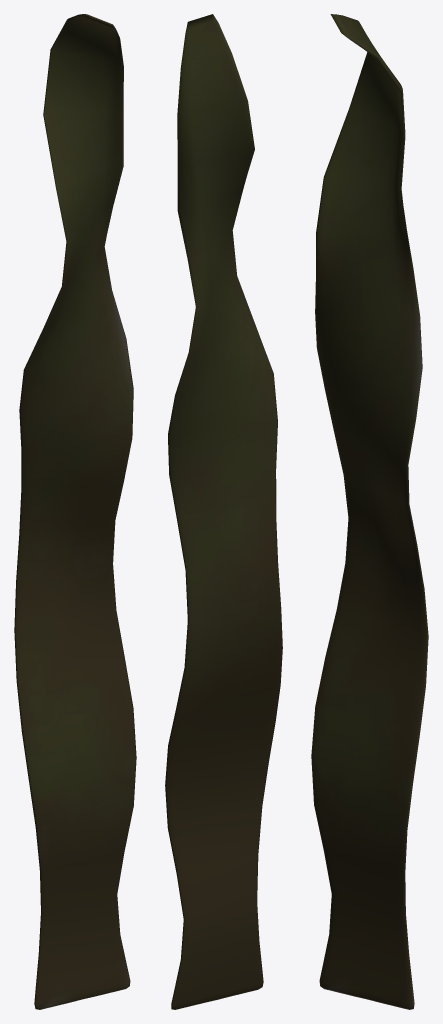
Rendered from singleUnitOfSeaweed_edit_for_FBX.fbx.
The picture shows the model from 3 angles, left to right: view 1: azimuth 30°, elevation 25°; view 2: azimuth 210°, elevation 25°; view 3: azimuth 330°, elevation 25°; orthographic projection. The views are drawn at different scales.
Parts seen in each view (by area): view 1: seaweed01; view 2: seaweed01; view 3: seaweed01.
Boxes of the visible parts, x1=… form: seaweed01: x1=14, y1=14, x2=136, y2=1009; seaweed01: x1=165, y1=14, x2=282, y2=1009; seaweed01: x1=311, y1=14, x2=428, y2=1009.
Size of the model in its own units: 22.61 by 200 by 18.48.
